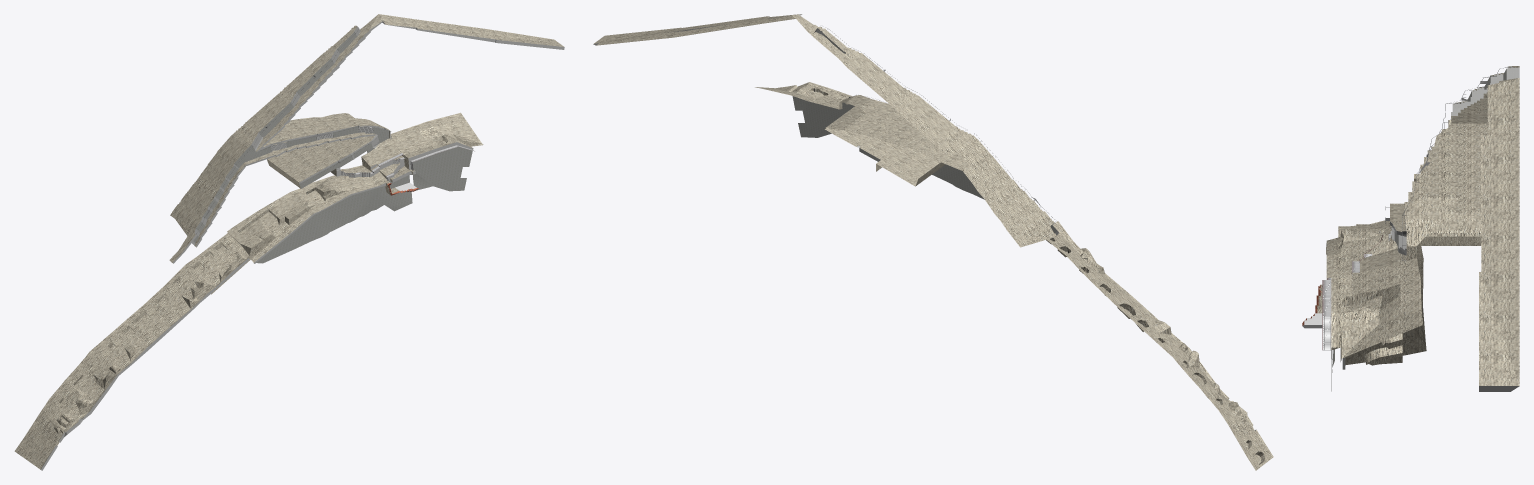
File: Toompeamyyr_b-origo.obj
The picture shows the model from 3 angles, left to right: view 1: azimuth 30°, elevation 25°; view 2: azimuth 150°, elevation 25°; view 3: azimuth 270°, elevation 25°; orthographic projection. The views are drawn at different scales.
Visible parts, largest first — view 1: Toompeamyyr_b; view 2: Toompeamyyr_b; view 3: Toompeamyyr_b.
Part boxes in pixels (x1=…): Toompeamyyr_b: x1=14, y1=14, x2=564, y2=470; Toompeamyyr_b: x1=593, y1=14, x2=1273, y2=470; Toompeamyyr_b: x1=1302, y1=66, x2=1519, y2=391.
Size of the model in its own units: 198 by 112 by 33.14.
